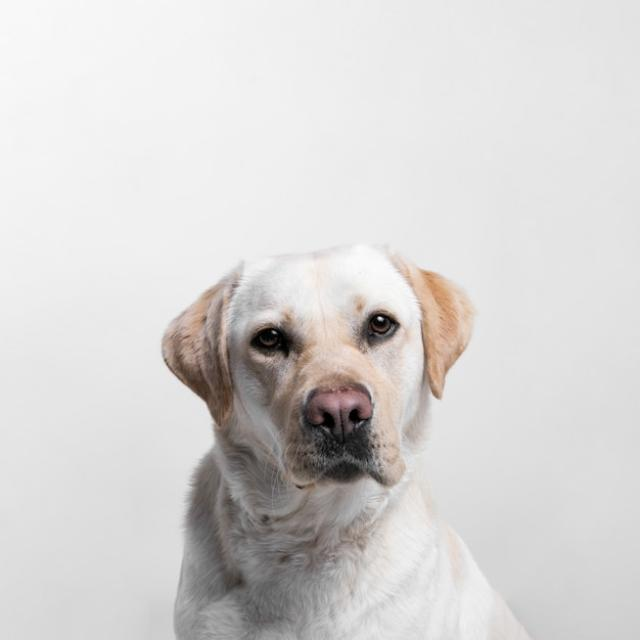Dog: (159, 241, 532, 640)
